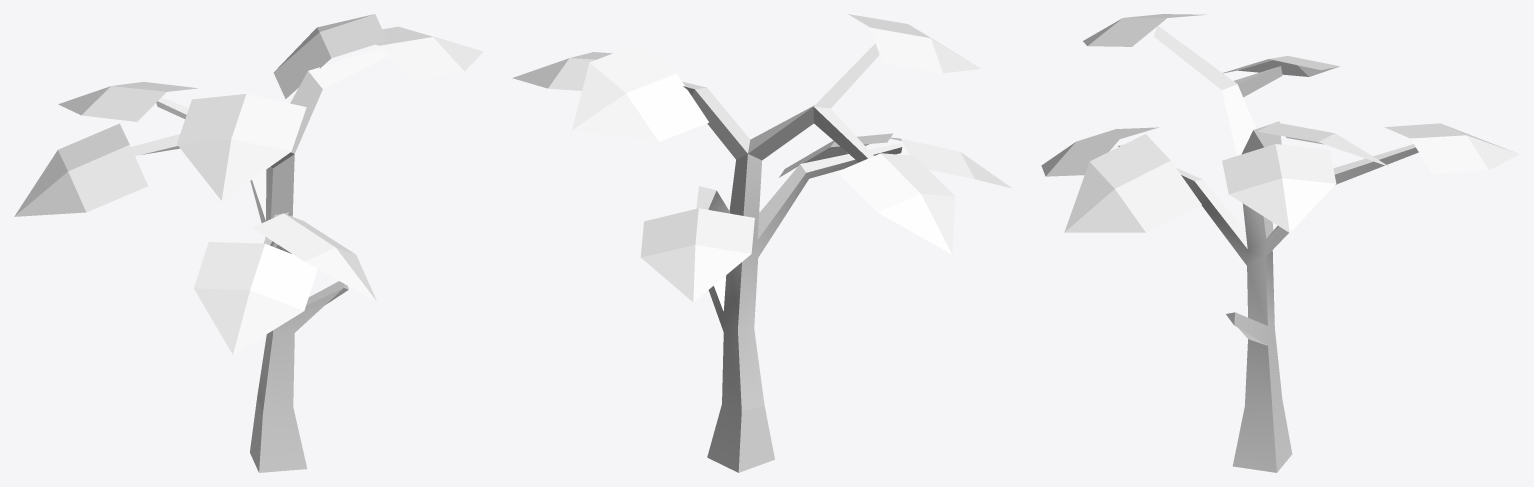
Rendered from SM_Prop_Plant_Bush_03_M.glb.
3 renders of one model, left to right at view 1: azimuth 30°, elevation 25°; view 2: azimuth 150°, elevation 25°; view 3: azimuth 270°, elevation 25°, orthographic. The views are drawn at different scales.
Visible parts, largest first — view 1: SM_Prop_Plant_Bush_03_M; view 2: SM_Prop_Plant_Bush_03_M; view 3: SM_Prop_Plant_Bush_03_M.
Boxes of the visible parts, bbox=[...] form: SM_Prop_Plant_Bush_03_M: bbox=[14, 14, 483, 472]; SM_Prop_Plant_Bush_03_M: bbox=[512, 14, 1012, 472]; SM_Prop_Plant_Bush_03_M: bbox=[1041, 14, 1519, 472].
Size of the model in its own units: 0.7265 by 0.6397 by 0.6862.
2 materials, 1 textured.
